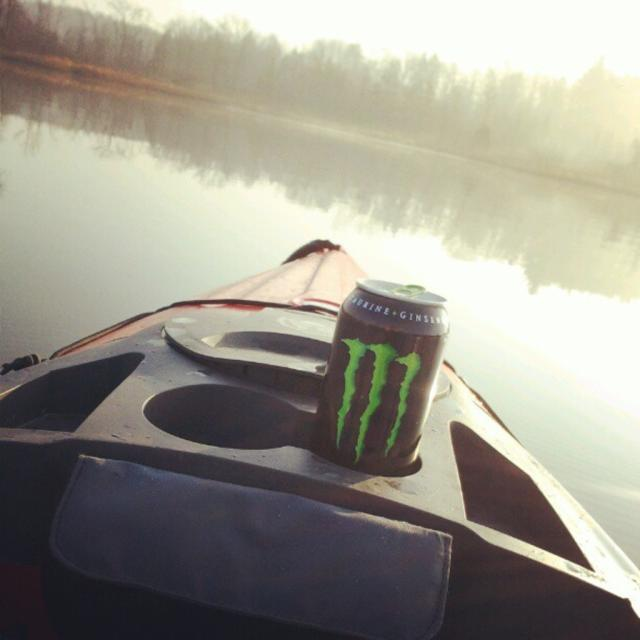Boat: (0, 144, 624, 578)
